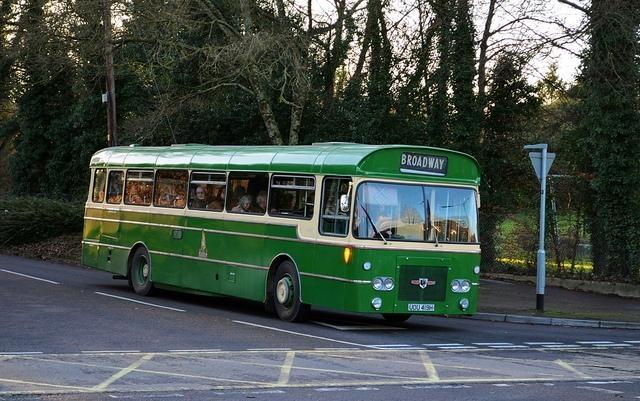bus: (79, 143, 482, 323)
